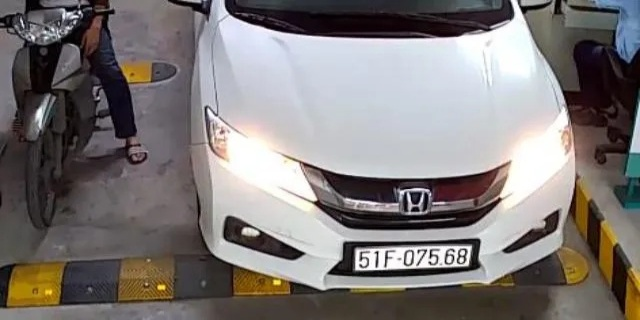bien_so: (355, 243, 472, 273)
